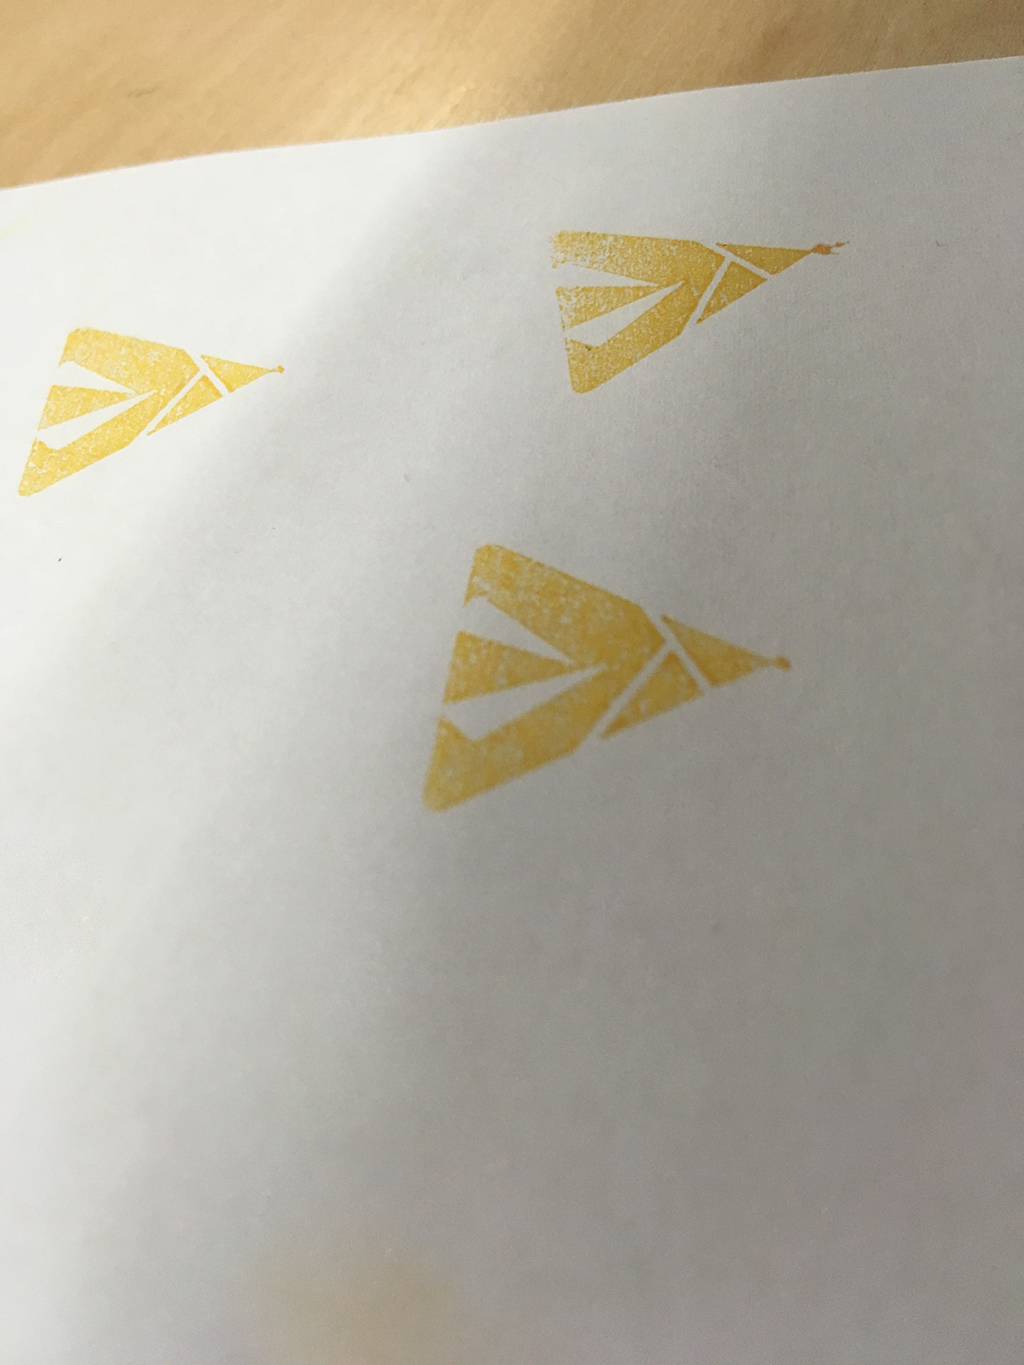tent: (416, 517, 813, 836), (525, 208, 863, 416), (8, 304, 298, 517)
